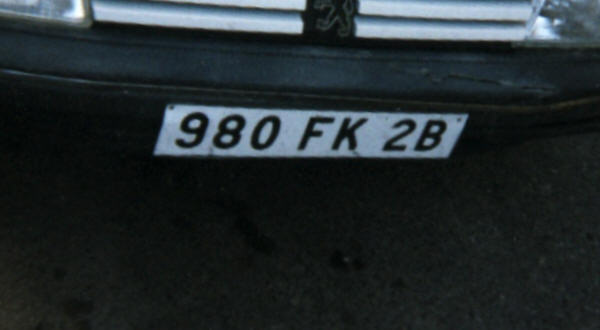license_plate: (151, 103, 469, 158)
